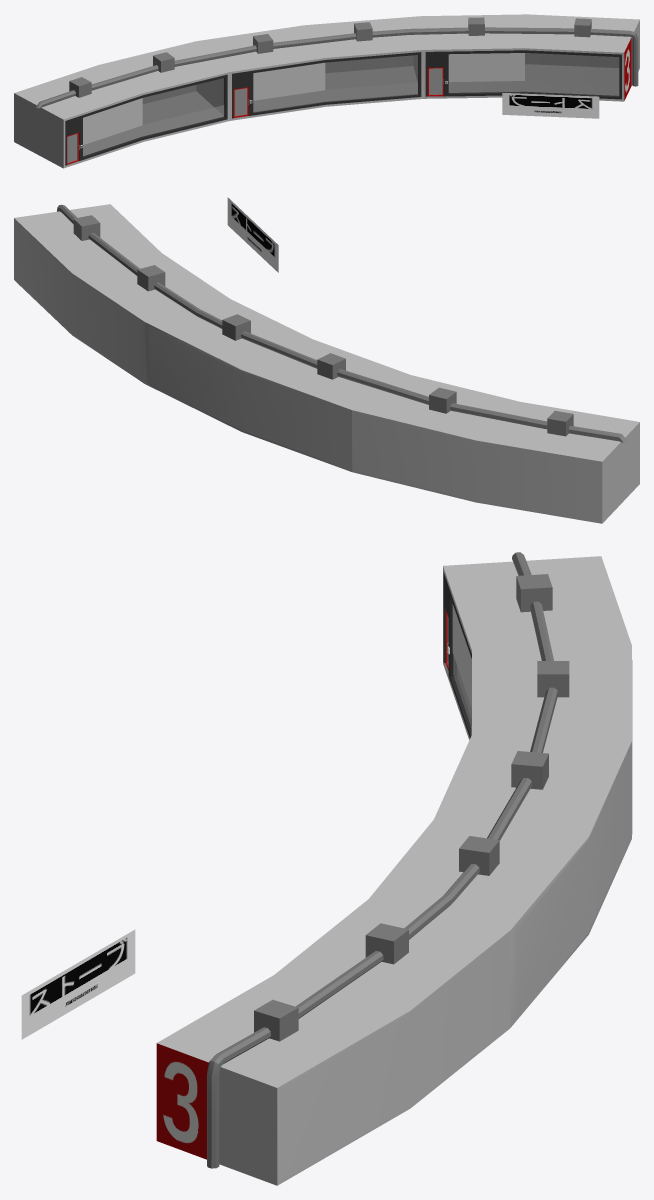
File: sector_3.fbx
The picture shows the model from 3 angles, top to bottom: view 1: azimuth 30°, elevation 25°; view 2: azimuth 150°, elevation 25°; view 3: azimuth 270°, elevation 25°; orthographic projection. The views are drawn at different scales.
Parts seen in each view (by area): view 1: polySurface37, setor3_bl3, setor3_bl2, polySurface14, polySurface16, polySurface12, pasted__pCylinder1, polySurface19, polySurface17, polySurface15, polySurface13, pasted__moldura2 (+16 smaller); view 2: polySurface37, setor3_bl2, setor3_bl3, pasted__pCylinder1, polySurface19, polySurface38, pasted__pasted__pasted__pCube13, pasted__pasted__pasted__pCube140, pasted__pasted__pasted__pCube142, pasted__pasted__pasted__pCube4, pasted__pasted__pasted__pCube5, pasted__pasted__pasted__pCube141; view 3: setor3_bl3, setor3_bl2, polySurface37, pasted__pCylinder1, polySurface19, pasted__polySurface7, pasted__pasted__pasted__pCube141, pasted__pasted__pasted__pCube140, pasted__pasted__pasted__pCube142, pasted__pasted__pasted__pCube13, pasted__pasted__pasted__pCube5, pasted__pasted__pasted__pCube4 (+2 smaller).
Part boxes in pixels (bbox=[...]): polySurface37: bbox=[14, 41, 229, 168]; setor3_bl3: bbox=[420, 14, 639, 101]; setor3_bl2: bbox=[196, 16, 423, 120]; polySurface14: bbox=[253, 55, 417, 112]; polySurface16: bbox=[448, 53, 619, 95]; polySurface12: bbox=[83, 78, 224, 156]; pasted__pCylinder1: bbox=[36, 27, 638, 108]; polySurface19: bbox=[502, 92, 599, 118]; polySurface17: bbox=[448, 53, 524, 82]; polySurface15: bbox=[253, 62, 325, 100]; polySurface13: bbox=[83, 98, 142, 144]; pasted__moldura2: bbox=[250, 52, 421, 115]; polySurface37: bbox=[352, 375, 639, 523]; setor3_bl2: bbox=[144, 299, 410, 471]; setor3_bl3: bbox=[14, 204, 229, 383]; pasted__pCylinder1: bbox=[57, 204, 627, 442]; polySurface19: bbox=[227, 197, 278, 272]; polySurface38: bbox=[622, 422, 639, 502]; pasted__pasted__pasted__pCube13: bbox=[317, 353, 345, 379]; pasted__pasted__pasted__pCube140: bbox=[137, 265, 165, 291]; pasted__pasted__pasted__pCube142: bbox=[222, 314, 250, 340]; pasted__pasted__pasted__pCube4: bbox=[429, 387, 456, 413]; pasted__pasted__pasted__pCube5: bbox=[547, 410, 573, 436]; pasted__pasted__pasted__pCube141: bbox=[73, 215, 100, 240]; setor3_bl3: bbox=[157, 899, 510, 1185]; setor3_bl2: bbox=[369, 735, 631, 1027]; polySurface37: bbox=[443, 556, 632, 834]; pasted__pCylinder1: bbox=[207, 552, 557, 1168]; polySurface19: bbox=[21, 929, 135, 1039]; pasted__polySurface7: bbox=[156, 1043, 208, 1159]; pasted__pasted__pasted__pCube141: bbox=[254, 999, 298, 1041]; pasted__pasted__pasted__pCube140: bbox=[365, 923, 408, 964]; pasted__pasted__pasted__pCube142: bbox=[459, 836, 499, 875]; pasted__pasted__pasted__pCube13: bbox=[511, 751, 548, 789]; pasted__pasted__pasted__pCube5: bbox=[516, 574, 552, 612]; pasted__pasted__pasted__pCube4: bbox=[537, 661, 569, 697].
Bounding box in the file's own units: 39.32 × 4.17 × 19.07.
